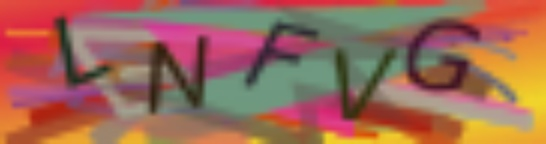F: (243, 17, 324, 93)
G: (403, 17, 483, 93)
L: (49, 13, 113, 91)
N: (142, 32, 214, 119)
V: (327, 45, 399, 125)
